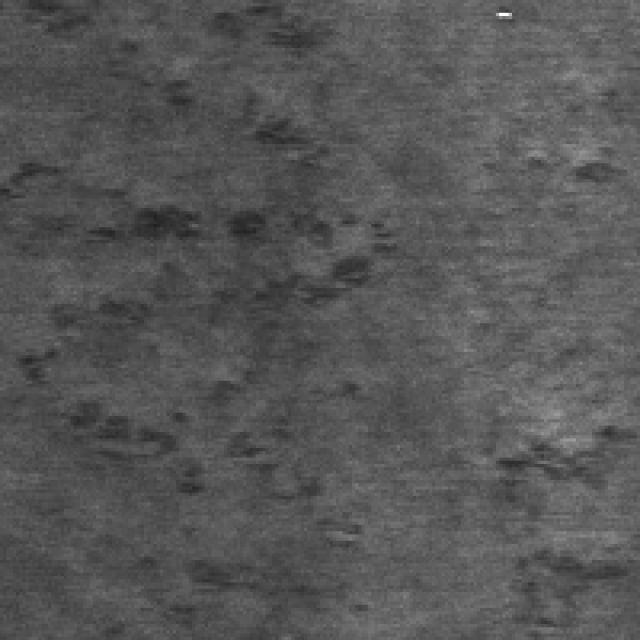rolled-in_scale: (0, 105, 390, 342), (6, 266, 362, 518), (99, 3, 330, 163), (484, 410, 630, 630)
